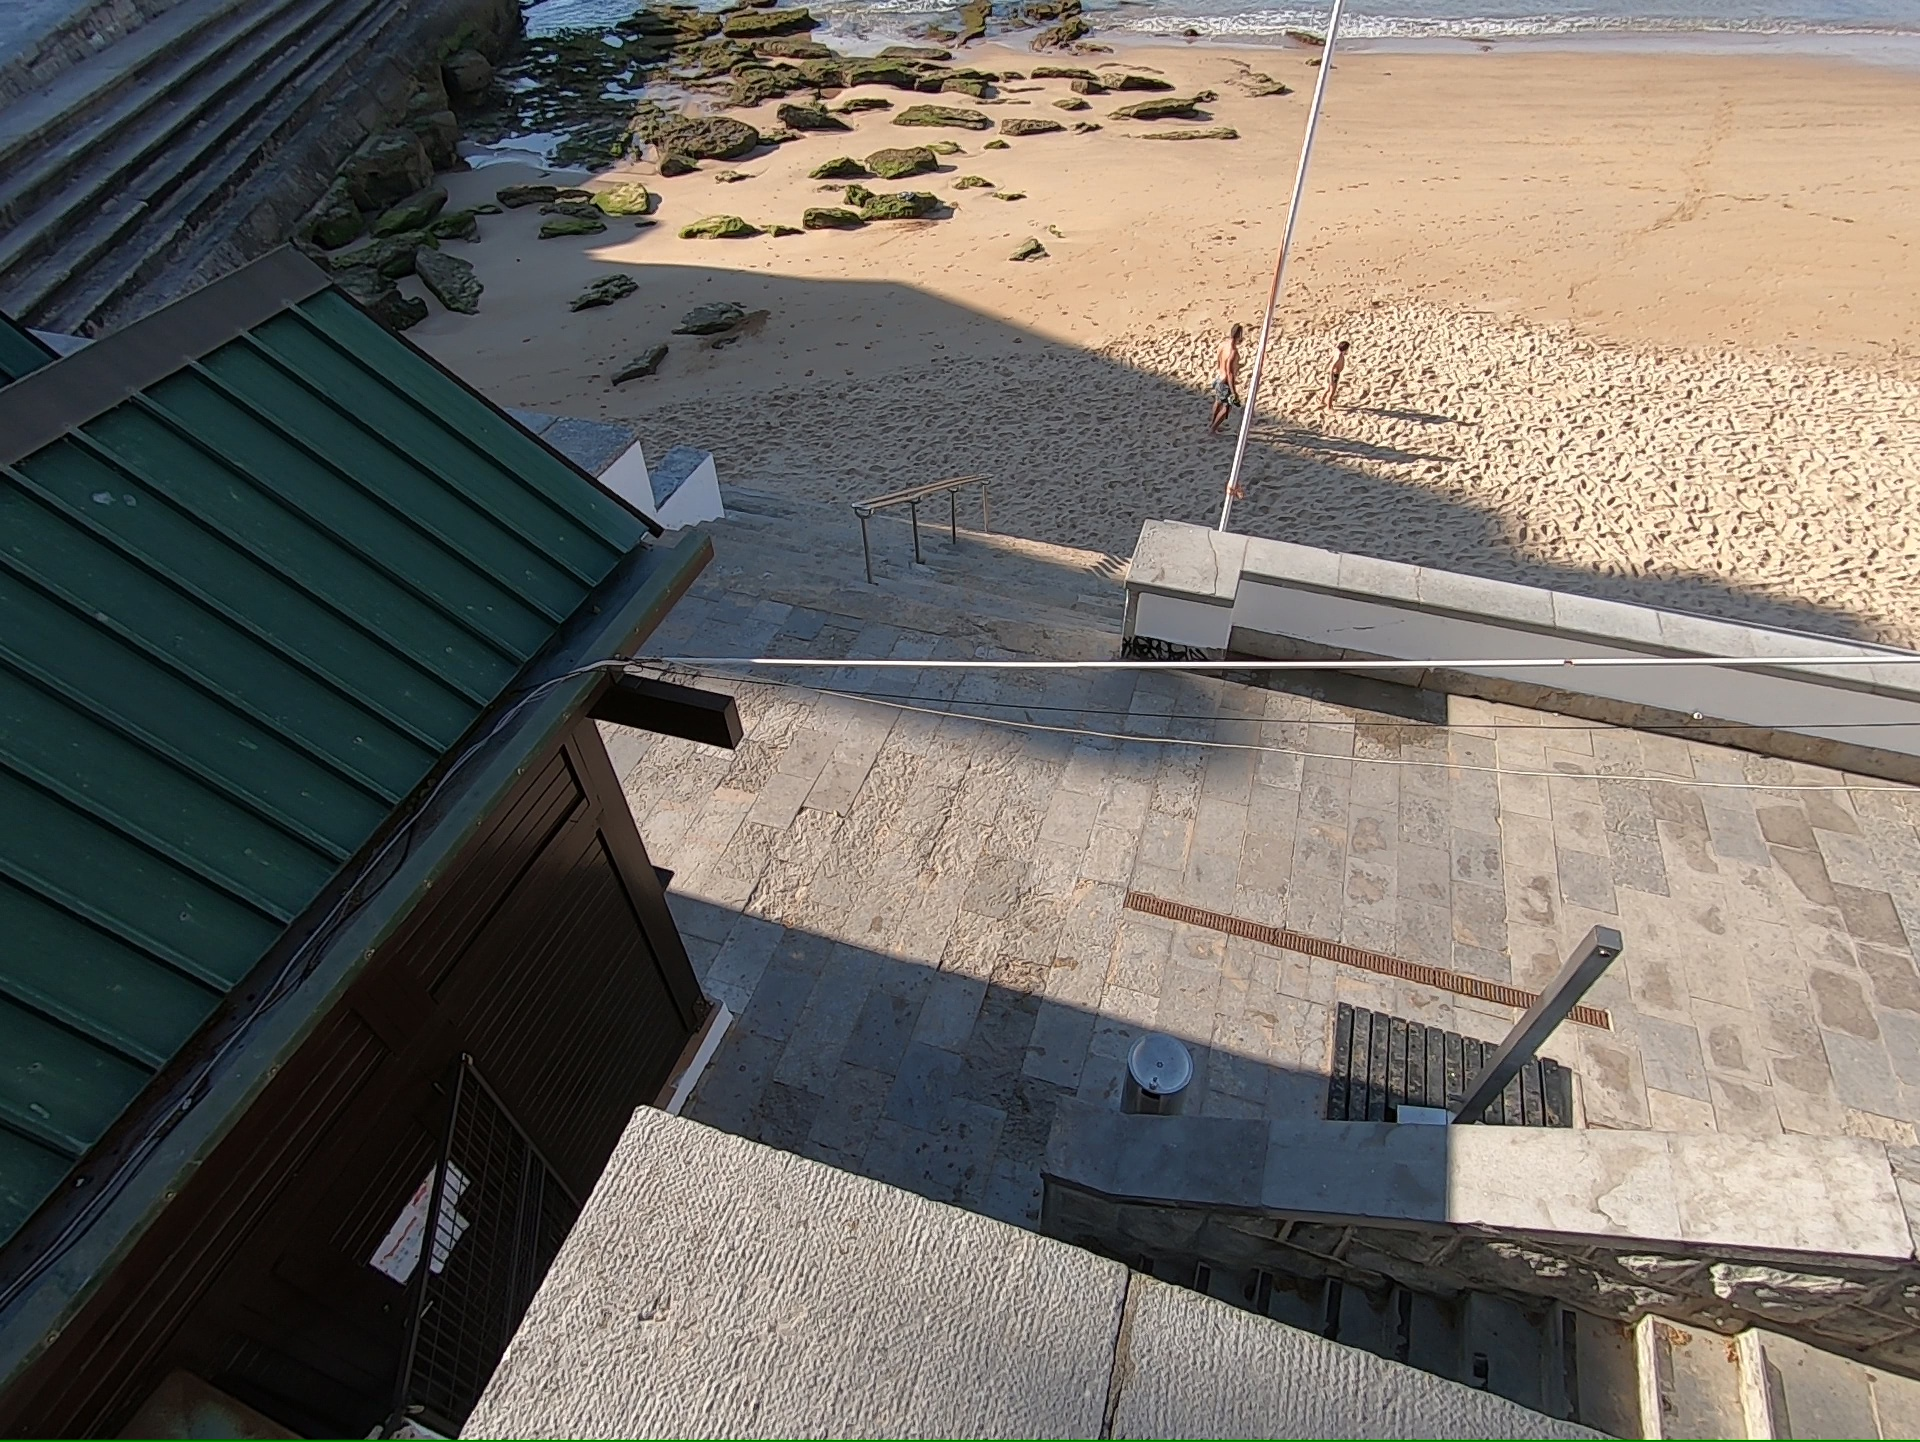person: (1210, 316, 1243, 427), (1325, 337, 1354, 410)
